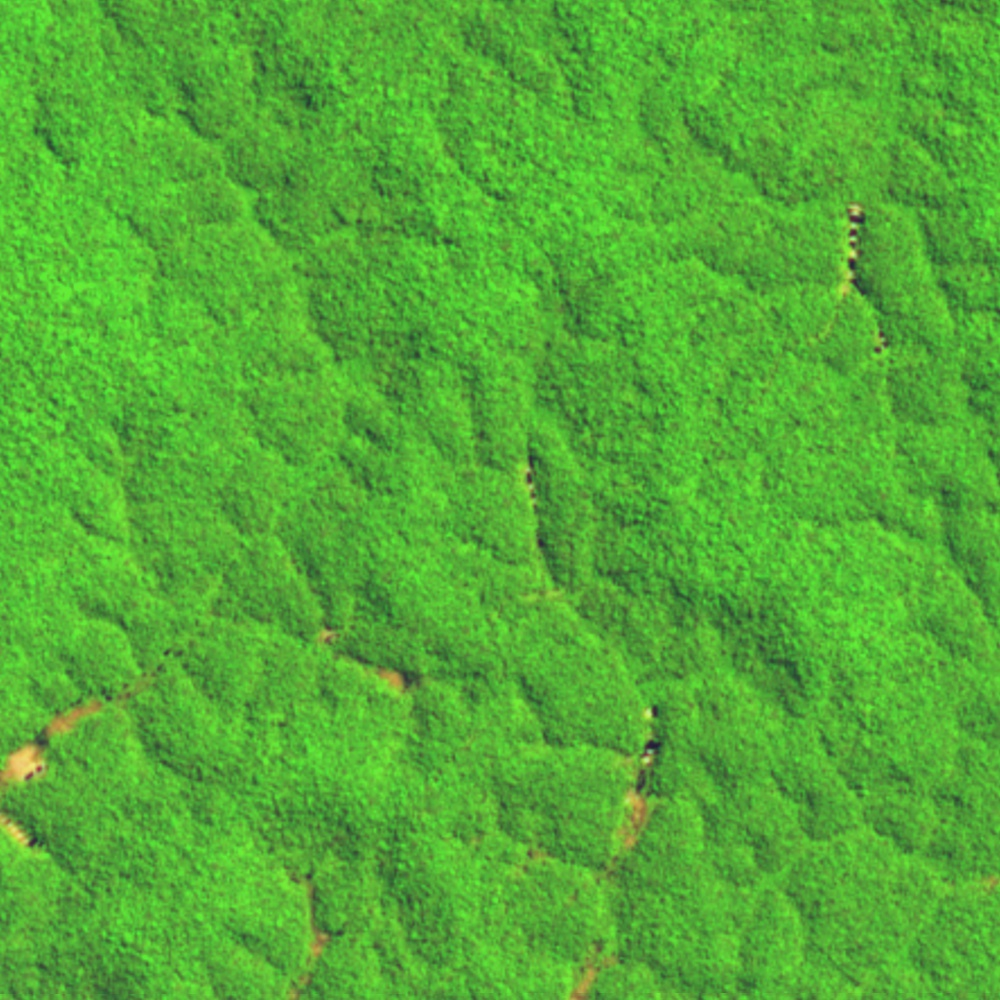illegal: (1, 643, 191, 859), (593, 701, 674, 883), (823, 198, 898, 368), (304, 618, 424, 694), (285, 865, 345, 1000), (566, 936, 625, 1000), (515, 449, 549, 549)
